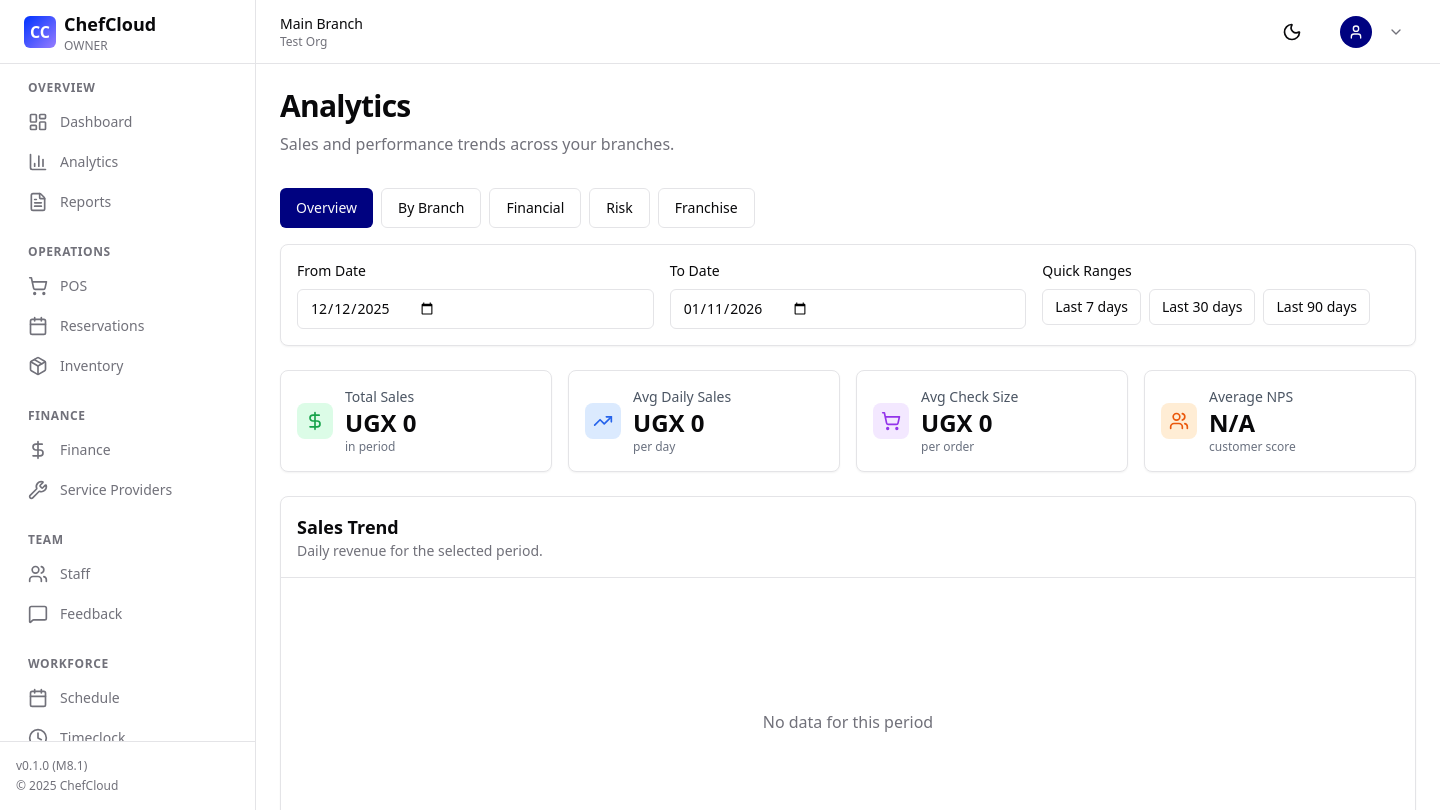
Test: AnalyticsPage - Franchise View Plan Gating › shows upsell gate when plan does not allow franchise analytics
This screenshot has width=1440, height=810.
Click the tab "Franchise". click: (706, 208)
box: 658,188 -> 755,228
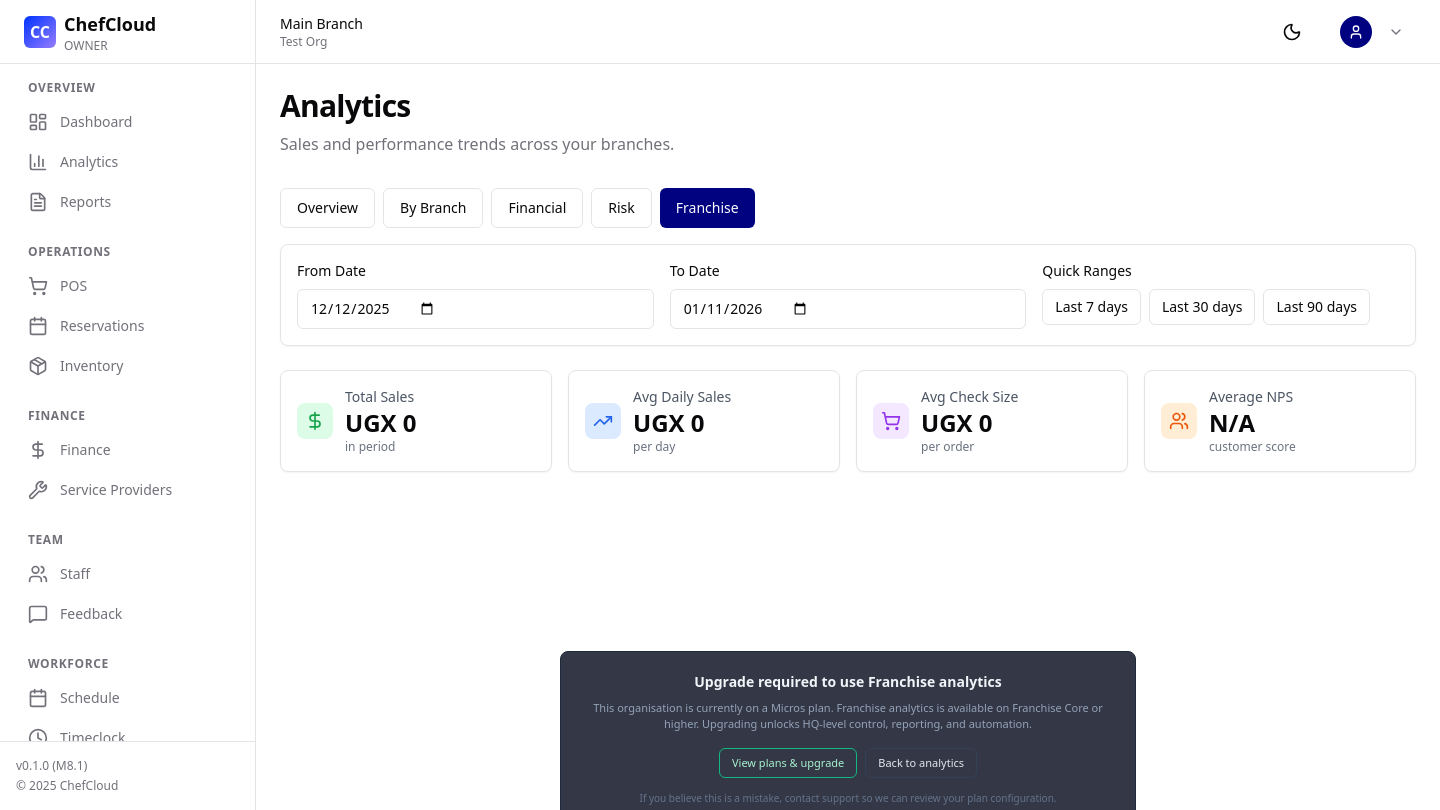
expect the heading "Upgrade required to use Franchise analytics" is shown: met, box 694,672 -> 1002,691
expect the link "View plans & upgrade" is shown: met, box 719,748 -> 857,778
